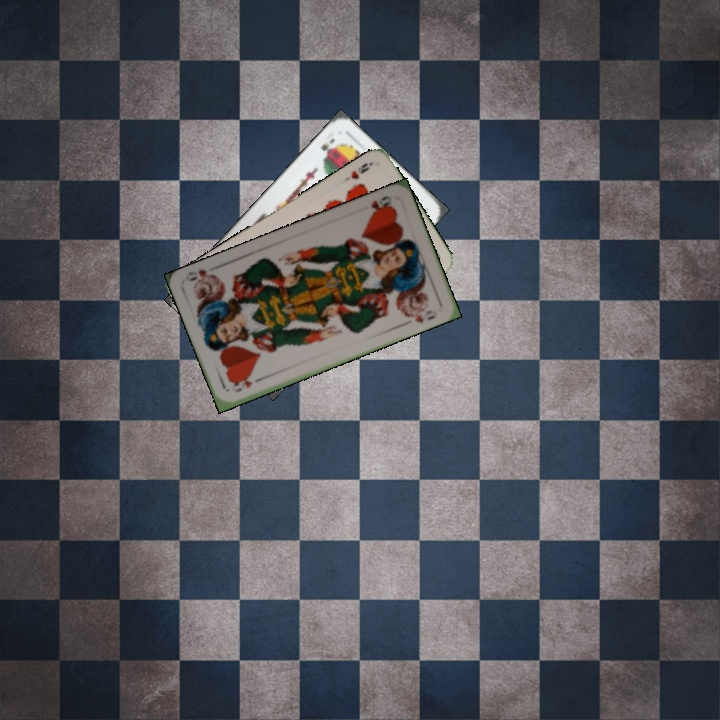H9: (338, 158, 375, 185)
HO: (228, 373, 266, 395), (367, 191, 394, 216)
SK: (317, 134, 337, 156)
